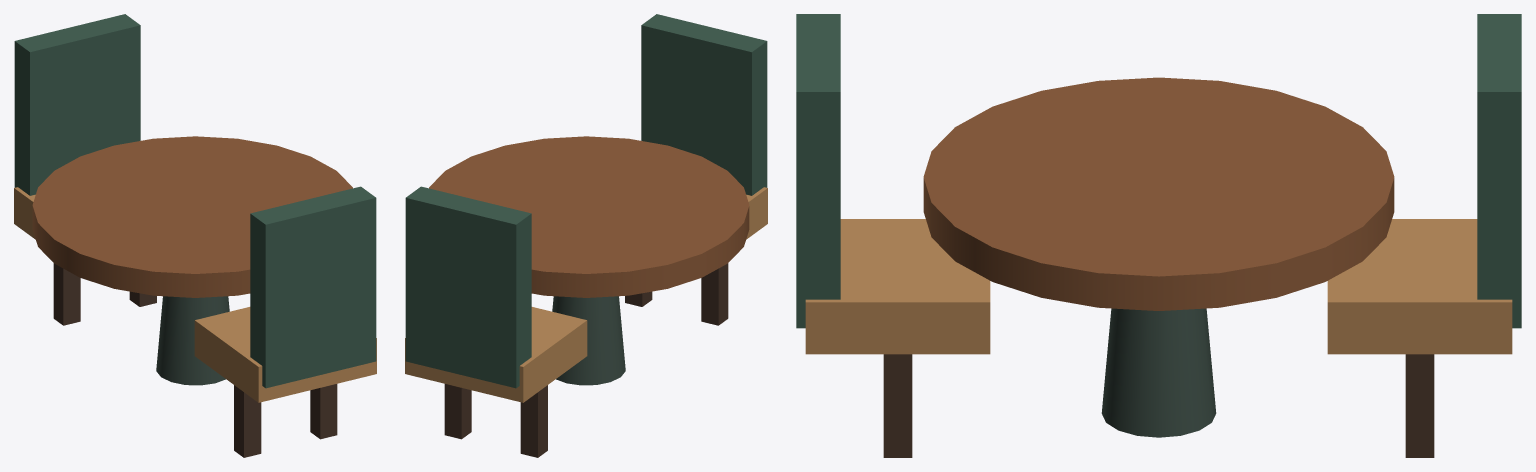
File: dining-set.glb
3 views of the same model, side by side, from view 1: azimuth 30°, elevation 25°; view 2: azimuth 150°, elevation 25°; view 3: azimuth 270°, elevation 25° (orthographic). The views are drawn at different scales.
Parts seen in each view (by area): view 1: DiningTable, ChairBack1, ChairBack0, ChairSeat1, ChairLeg (×3), TableBase, ChairSeat0; view 2: DiningTable, ChairBack0, ChairBack1, ChairSeat0, ChairLeg (×3), TableBase, ChairSeat1; view 3: DiningTable, ChairSeat0, ChairSeat1, ChairBack0, ChairBack1, TableBase, ChairLeg (×2).
Part boxes in pixels (x1,y1,x2,y2): DiningTable: (32, 136, 352, 297); ChairBack1: (250, 186, 376, 388); ChairBack0: (14, 14, 140, 195); ChairSeat1: (194, 307, 376, 402); ChairLeg (×3): (53, 263, 337, 457); TableBase: (156, 296, 229, 385); ChairSeat0: (14, 187, 35, 239); DiningTable: (429, 136, 749, 297); ChairBack0: (405, 186, 531, 388); ChairBack1: (641, 14, 767, 195); ChairSeat0: (405, 307, 587, 402); ChairLeg (×3): (444, 263, 728, 457); TableBase: (552, 296, 625, 385); ChairSeat1: (746, 187, 767, 239); DiningTable: (923, 77, 1394, 310); ChairSeat0: (1327, 219, 1512, 354); ChairSeat1: (805, 219, 990, 354); ChairBack0: (1477, 14, 1521, 328); ChairBack1: (796, 14, 840, 328); TableBase: (1101, 308, 1216, 437); ChairLeg (×2): (883, 354, 1434, 457).
Bounding box in the file's own units: 1.48 × 1.29 × 2.28.
